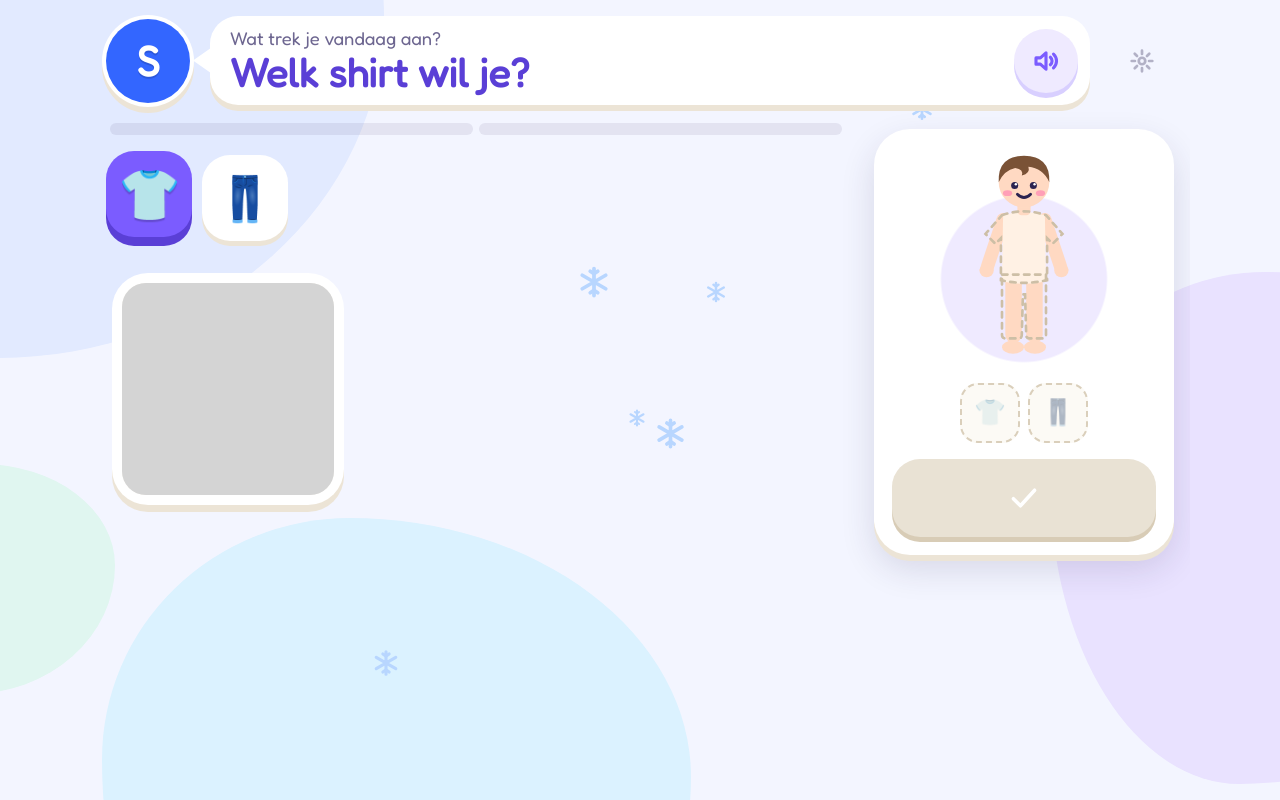
Test: KidApp › gebruikt tabs met aria-selected
Expected: the element named "Soort kleding" is shown, [106, 151, 288, 241]
Click the tab named "Broek of rok".
click(245, 198)  # box [202, 155, 288, 241]
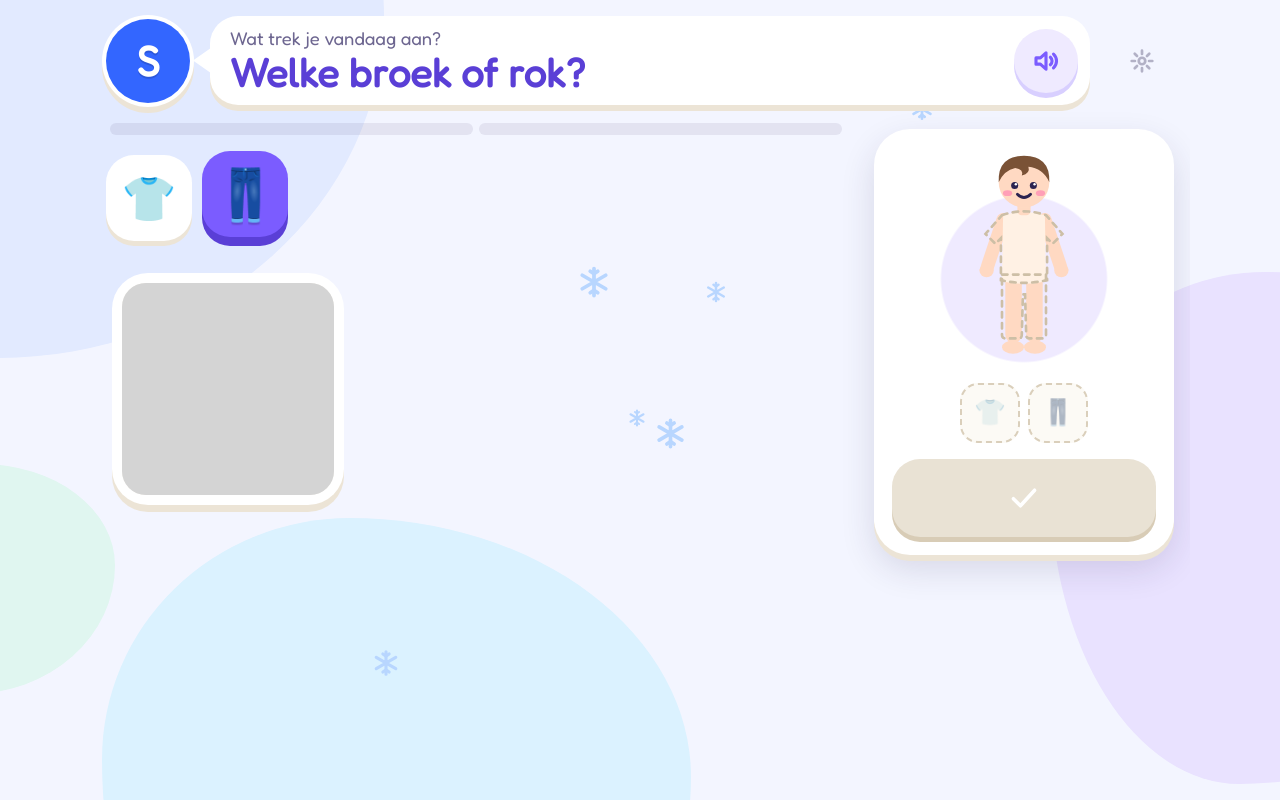
Expected: the tab named "Broek of rok" is selected, [202, 151, 288, 237]
Expected: the tab named "Shirt" is not selected, [106, 155, 192, 241]
